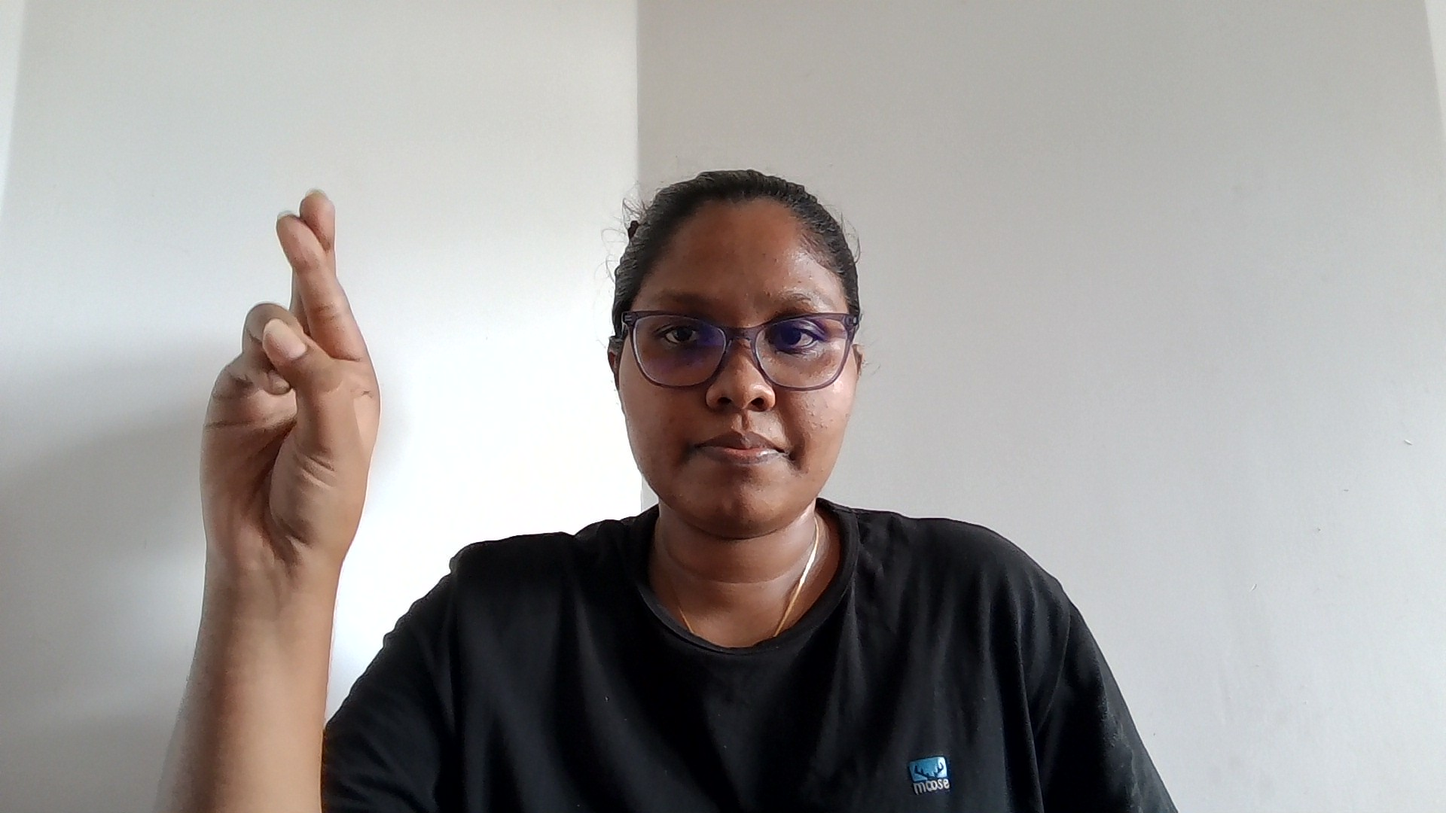Good_Luck: (134, 186, 454, 701)
